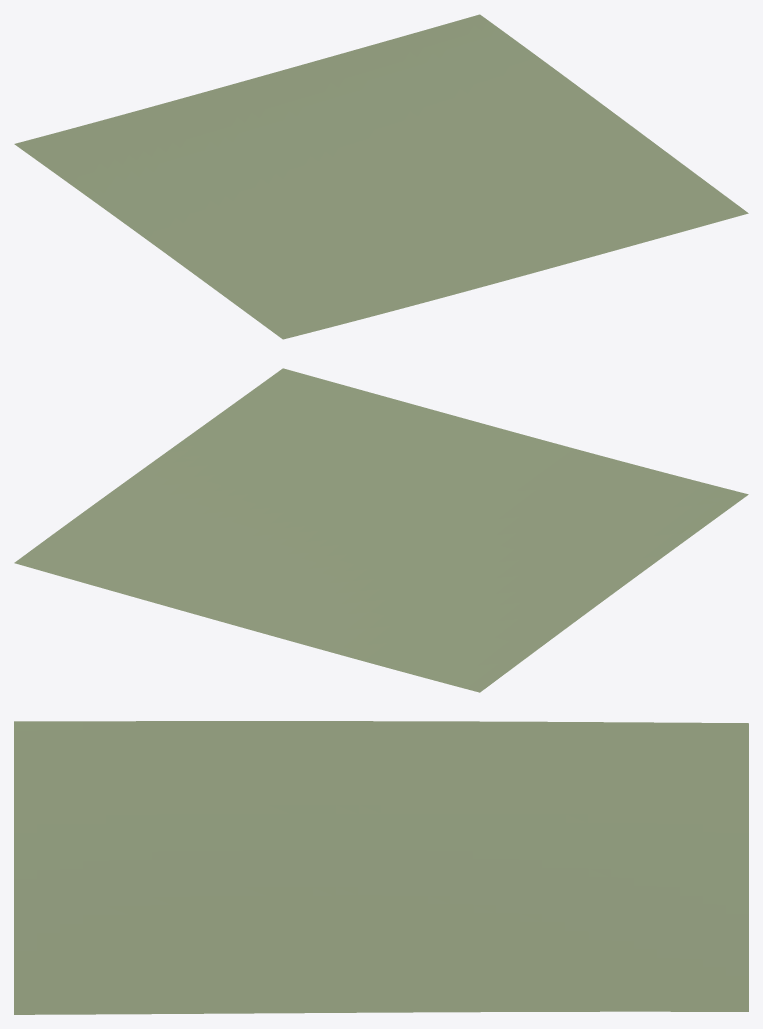
The model's file is desert-19-7.glb.
The picture shows the model from 3 angles, top to bottom: view 1: azimuth 30°, elevation 25°; view 2: azimuth 150°, elevation 25°; view 3: azimuth 270°, elevation 25°; orthographic projection. The views are drawn at different scales.
Visible parts, largest first — view 1: desert-19-7; view 2: desert-19-7; view 3: desert-19-7.
Boxes of the visible parts, x1,y1,x2,y2 form: desert-19-7: (14,14,748,339); desert-19-7: (14,368,748,692); desert-19-7: (14,721,748,1014).
Size of the model in its own units: 512 by 16.9 by 512.
